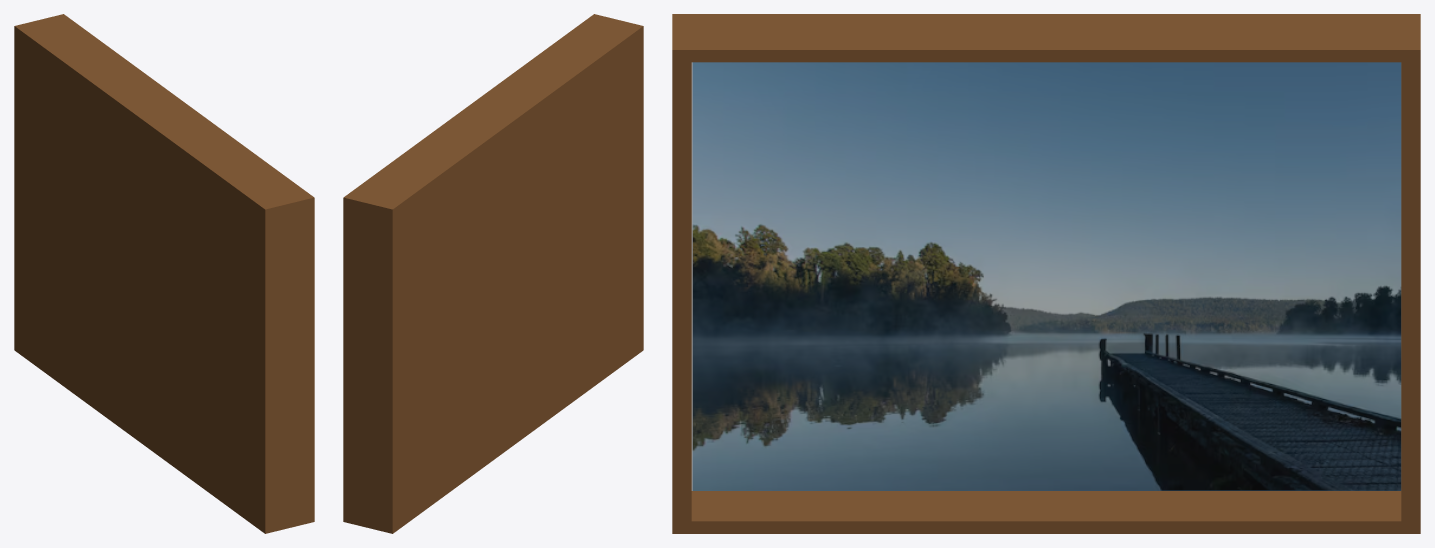
Rendered from cuadro3.fbx.
3 views of the same model, side by side, from view 1: azimuth 30°, elevation 25°; view 2: azimuth 150°, elevation 25°; view 3: azimuth 270°, elevation 25° (orthographic). The views are drawn at different scales.
Parts seen in each view (by area): view 1: Cube; view 2: Cube; view 3: Cube.
Part boxes in pixels (box(x1,y1,x2,y2)): Cube: box(14, 14, 314, 533); Cube: box(343, 14, 643, 533); Cube: box(672, 14, 1420, 533).
Bounding box in the file's own units: 22.7 × 143 × 200.
Materials: 2 (1 with a texture image).
